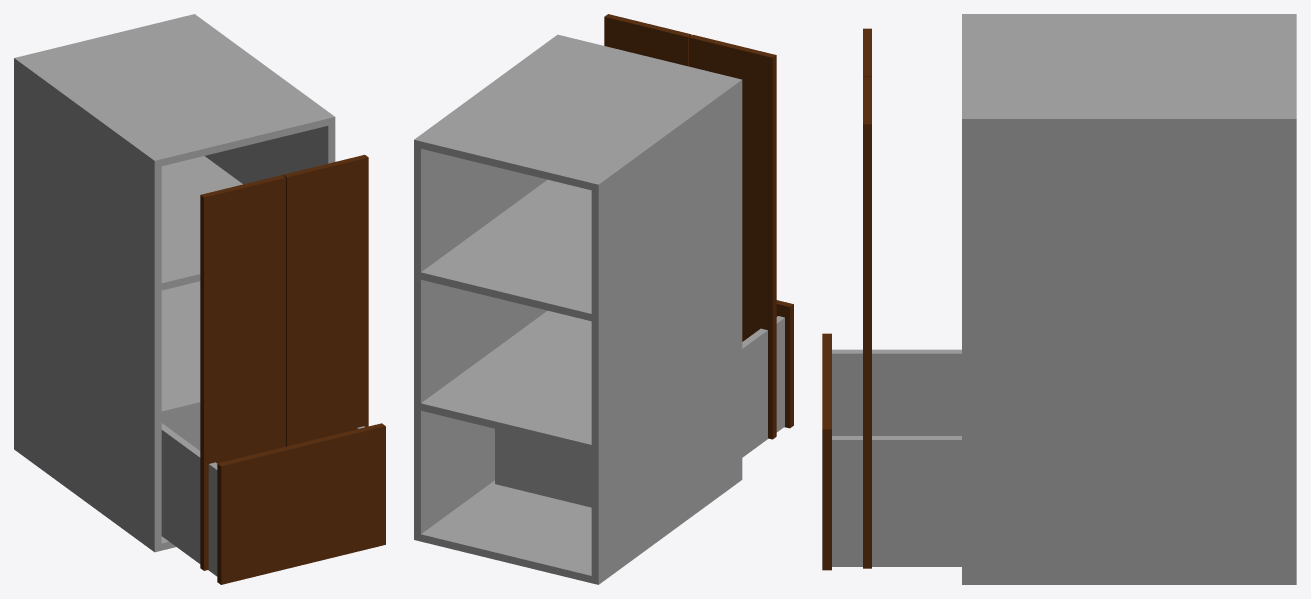
File: meuble_6901809709f69.glb
3 renders of one model, left to right at view 1: azimuth 30°, elevation 25°; view 2: azimuth 150°, elevation 25°; view 3: azimuth 270°, elevation 25°, orthographic. The views are drawn at different scales.
Visible parts, largest first — view 1: world; view 2: world; view 3: world.
Part boxes in pixels (x1,y1,x2,y2): world: [14, 14, 385, 584]; world: [414, 14, 793, 584]; world: [822, 14, 1296, 584].
Size of the model in its own units: 0.5 by 1.04 by 0.9549.
1 material, 1 textured.
